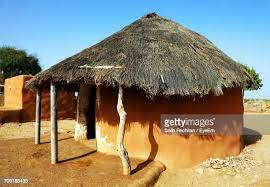Mud House: (51, 15, 254, 163)
